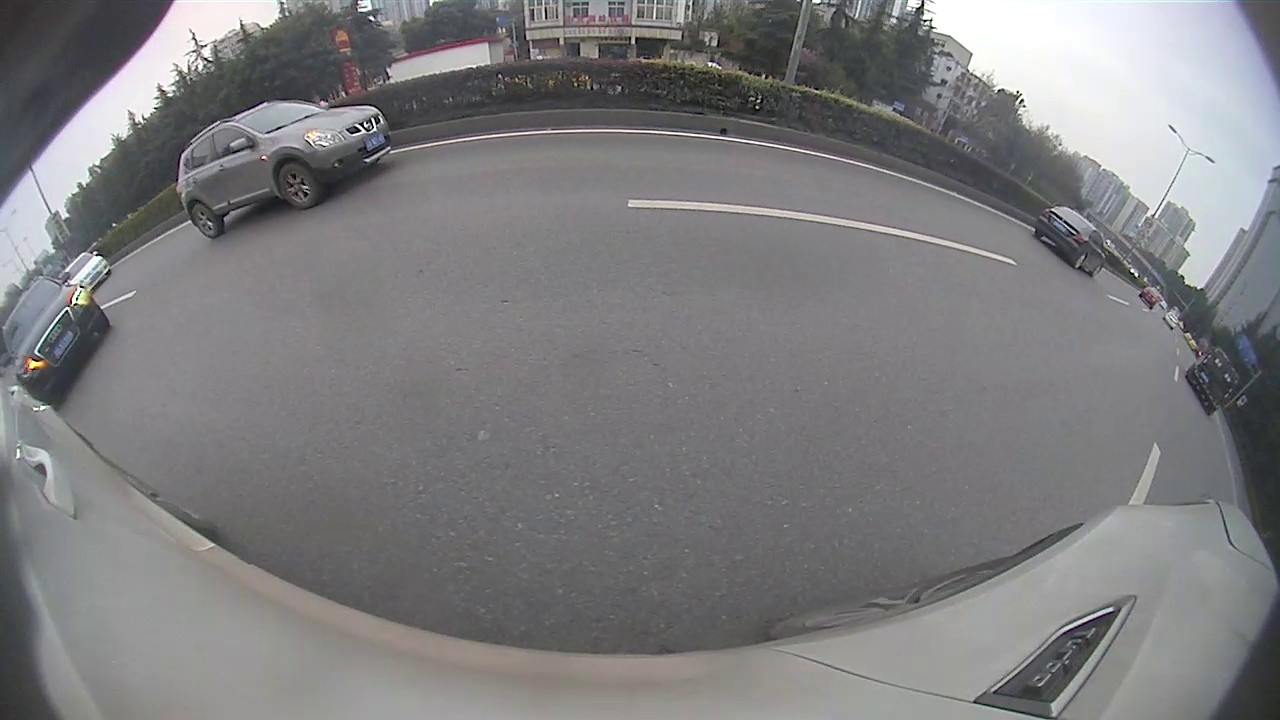car: (177, 102, 389, 237), (2, 277, 112, 406), (1033, 206, 1104, 276), (1185, 347, 1240, 414), (60, 251, 108, 294)
front: (277, 161, 328, 211)
rear: (189, 202, 224, 240), (1073, 252, 1089, 270)
